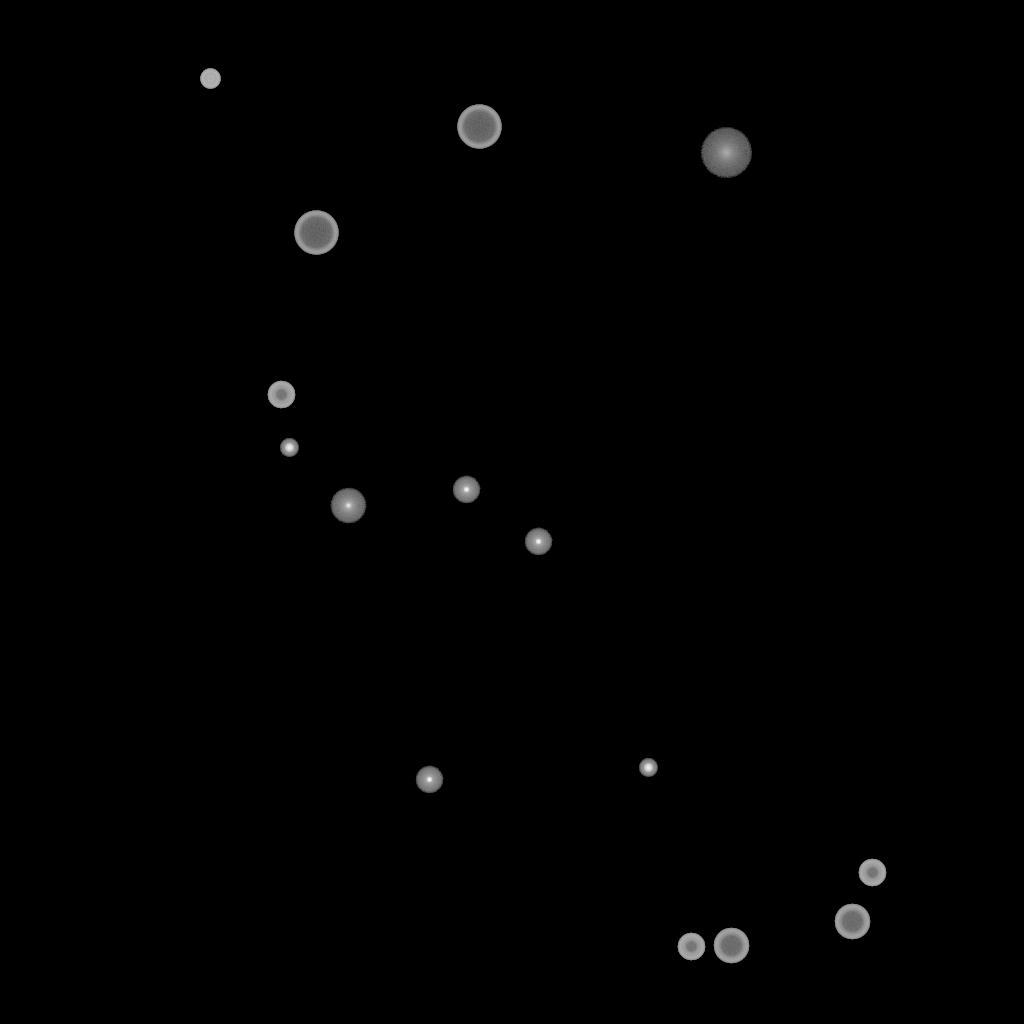depth:-10: (524, 528, 552, 556), (452, 476, 480, 504), (415, 766, 443, 794)
depth:-20: (280, 439, 298, 457), (639, 759, 657, 777)
depth:-40: (200, 69, 220, 89)
depth:-50: (677, 933, 705, 961), (267, 381, 295, 409), (858, 859, 886, 887)
depth:-60: (834, 904, 870, 940), (713, 928, 749, 964)
depth:-70: (294, 211, 338, 255), (457, 105, 501, 149)
depth:0: (330, 488, 366, 524)
depth:20: (700, 128, 752, 178)
